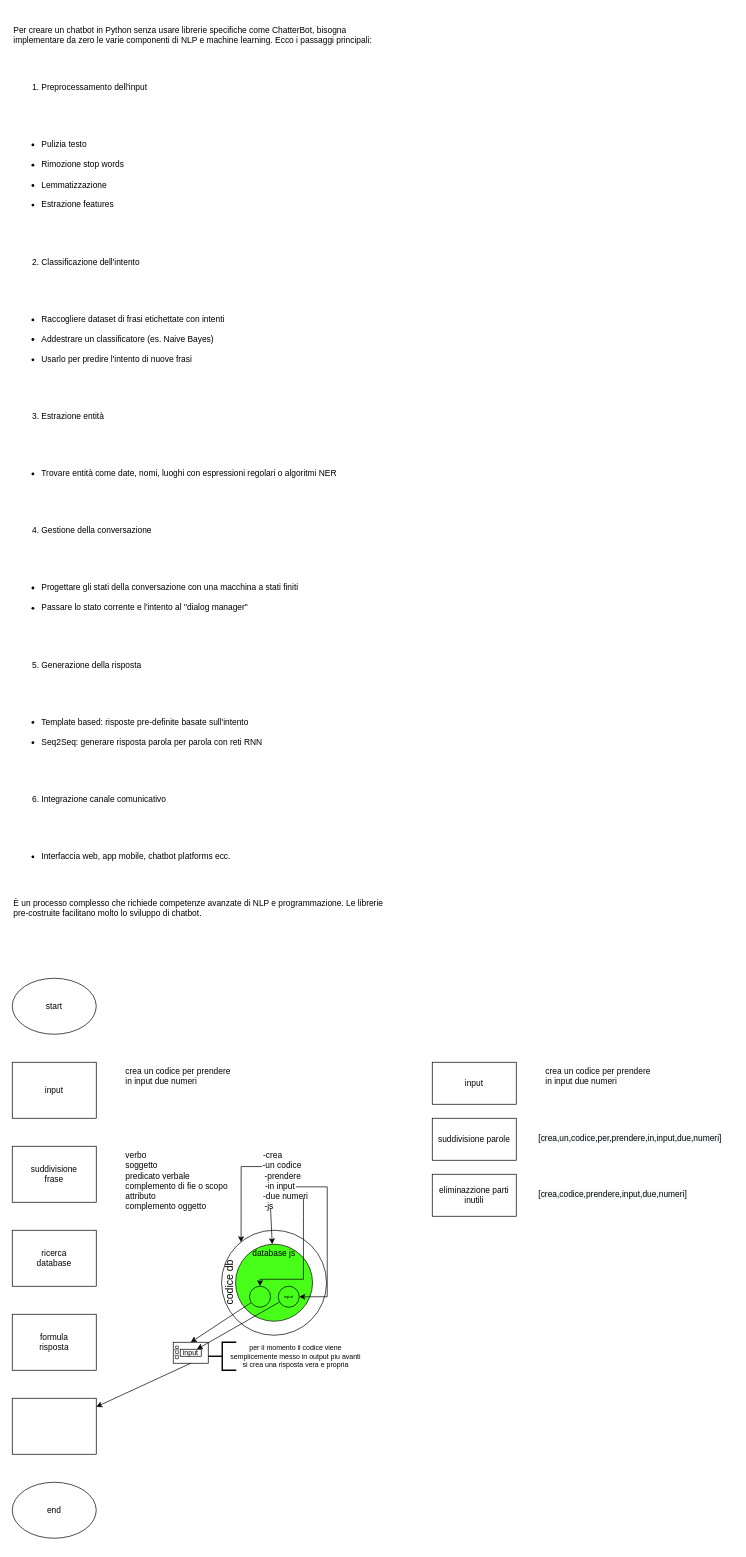
This 746x1557 diagram has some shape labels left out. Each missing label, with the centre of its shape:
"cicli" belongs at (x=260, y=1296).
"output" belongs at (x=54, y=1426).
